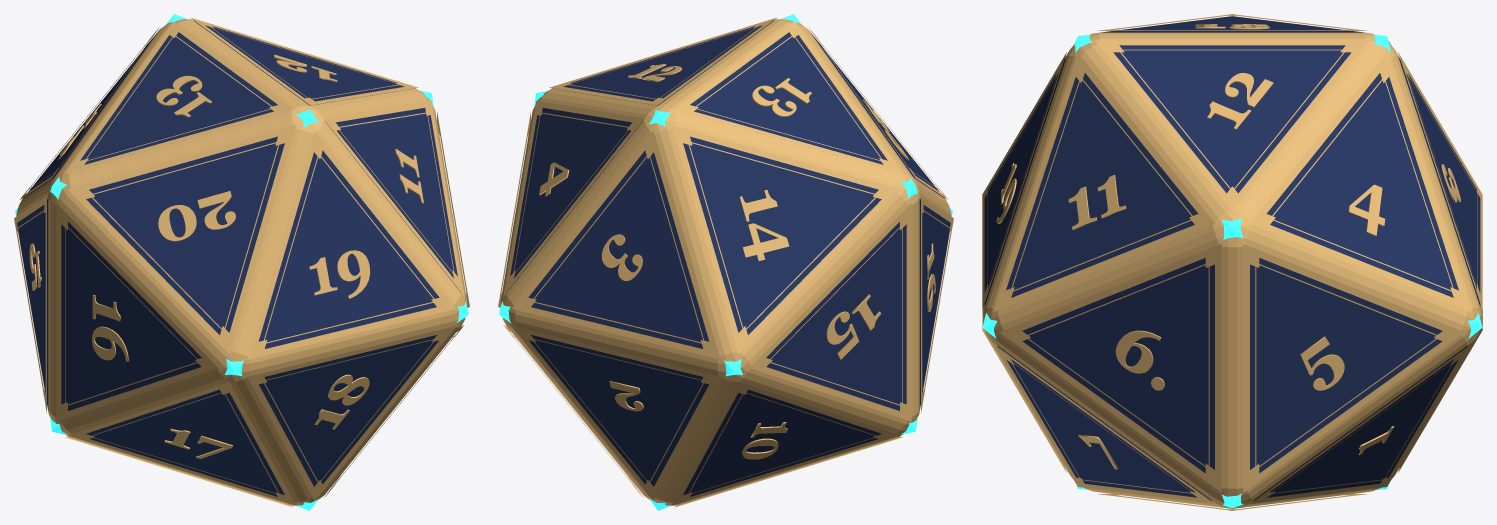
The picture shows the model from 3 angles, left to right: view 1: azimuth 30°, elevation 25°; view 2: azimuth 150°, elevation 25°; view 3: azimuth 270°, elevation 25°; orthographic projection. The views are drawn at different scales.
Visible parts, largest first — view 1: D20_Body, D20_Inlay.019, D20_Inlay.015, D20_Inlay.018, D20_Inlay.016, D20_Inlay.012, D20_Inlay.017, D20_Inlay.014, D20_Inlay.013, D20_Number_20_Mesh, D20_Number_19_Mesh, D20_Jewels (+7 smaller); view 2: D20_Body, D20_Inlay.011, D20_Inlay.002, D20_Inlay.010, D20_Inlay.001, D20_Inlay.012, D20_Inlay.009, D20_Inlay.003, D20_Inlay.013, D20_Number_14_Mesh, D20_Jewels, D20_Inlay.018 (+6 smaller); view 3: D20_Body, D20_Inlay.004, D20_Inlay.005, D20_Inlay.003, D20_Inlay.014, D20_Inlay.013, D20_Inlay, D20_Inlay.006, D20_Inlay.002, D20_Inlay.015, D20_Jewels, D20_Number_12_Mesh (+5 smaller).
Part boxes in pixels (box(x1,y1,x2,y2)): D20_Body: box(16, 19, 467, 505); D20_Inlay.019: box(68, 125, 296, 353); D20_Inlay.015: box(247, 130, 455, 359); D20_Inlay.018: box(56, 203, 217, 421); D20_Inlay.016: box(247, 326, 455, 500); D20_Inlay.012: box(65, 21, 293, 173); D20_Inlay.017: box(68, 382, 296, 505); D20_Inlay.014: box(323, 100, 464, 296); D20_Inlay.013: box(190, 17, 418, 105); D20_Number_20_Mesh: box(158, 191, 235, 241); D20_Number_19_Mesh: box(309, 250, 370, 298); D20_Jewels: box(15, 14, 468, 510); D20_Body: box(500, 19, 951, 505); D20_Inlay.011: box(671, 125, 899, 353); D20_Inlay.002: box(512, 130, 720, 359); D20_Inlay.010: box(750, 203, 911, 421); D20_Inlay.001: box(512, 326, 720, 500); D20_Inlay.012: box(674, 21, 902, 173); D20_Inlay.009: box(671, 382, 899, 505); D20_Inlay.003: box(503, 100, 644, 296); D20_Inlay.013: box(549, 17, 777, 105); D20_Number_14_Mesh: box(739, 190, 789, 261); D20_Jewels: box(499, 14, 952, 510); D20_Inlay.018: box(921, 196, 953, 412); D20_Body: box(983, 16, 1481, 508); D20_Inlay.004: box(1243, 244, 1464, 492); D20_Inlay.005: box(1000, 244, 1221, 492); D20_Inlay.003: box(1250, 53, 1471, 311); D20_Inlay.014: box(993, 53, 1214, 311); D20_Inlay.013: box(1095, 40, 1369, 210); D20_Inlay: box(1250, 344, 1471, 503); D20_Inlay.006: box(993, 344, 1214, 503); D20_Inlay.002: box(1398, 52, 1482, 309); D20_Inlay.015: box(982, 52, 1066, 309); D20_Jewels: box(982, 34, 1482, 507); D20_Number_12_Mesh: box(1207, 73, 1273, 129).
Size of what is drawn, in the model's own units: 1.21 by 1.21 by 1.21.
